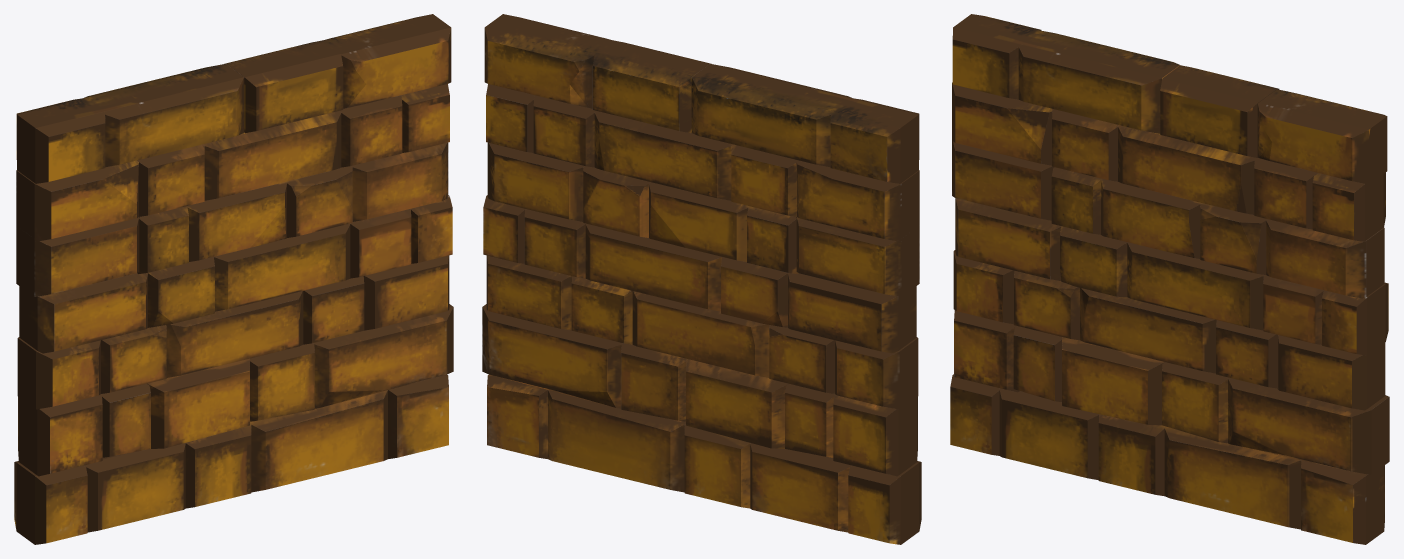
File: Wall_B.fbx
3 renders of one model, left to right at view 1: azimuth 30°, elevation 25°; view 2: azimuth 150°, elevation 25°; view 3: azimuth 330°, elevation 25°, orthographic.
Visible parts, largest first — view 1: Wall_B; view 2: Wall_B; view 3: Wall_B.
Boxes of the visible parts, <box> form: Wall_B: <box>14,14,453,544</box>; Wall_B: <box>482,14,921,544</box>; Wall_B: <box>950,14,1389,544</box>.
Bounding box in the file's own units: 491 × 466 × 77.22.
